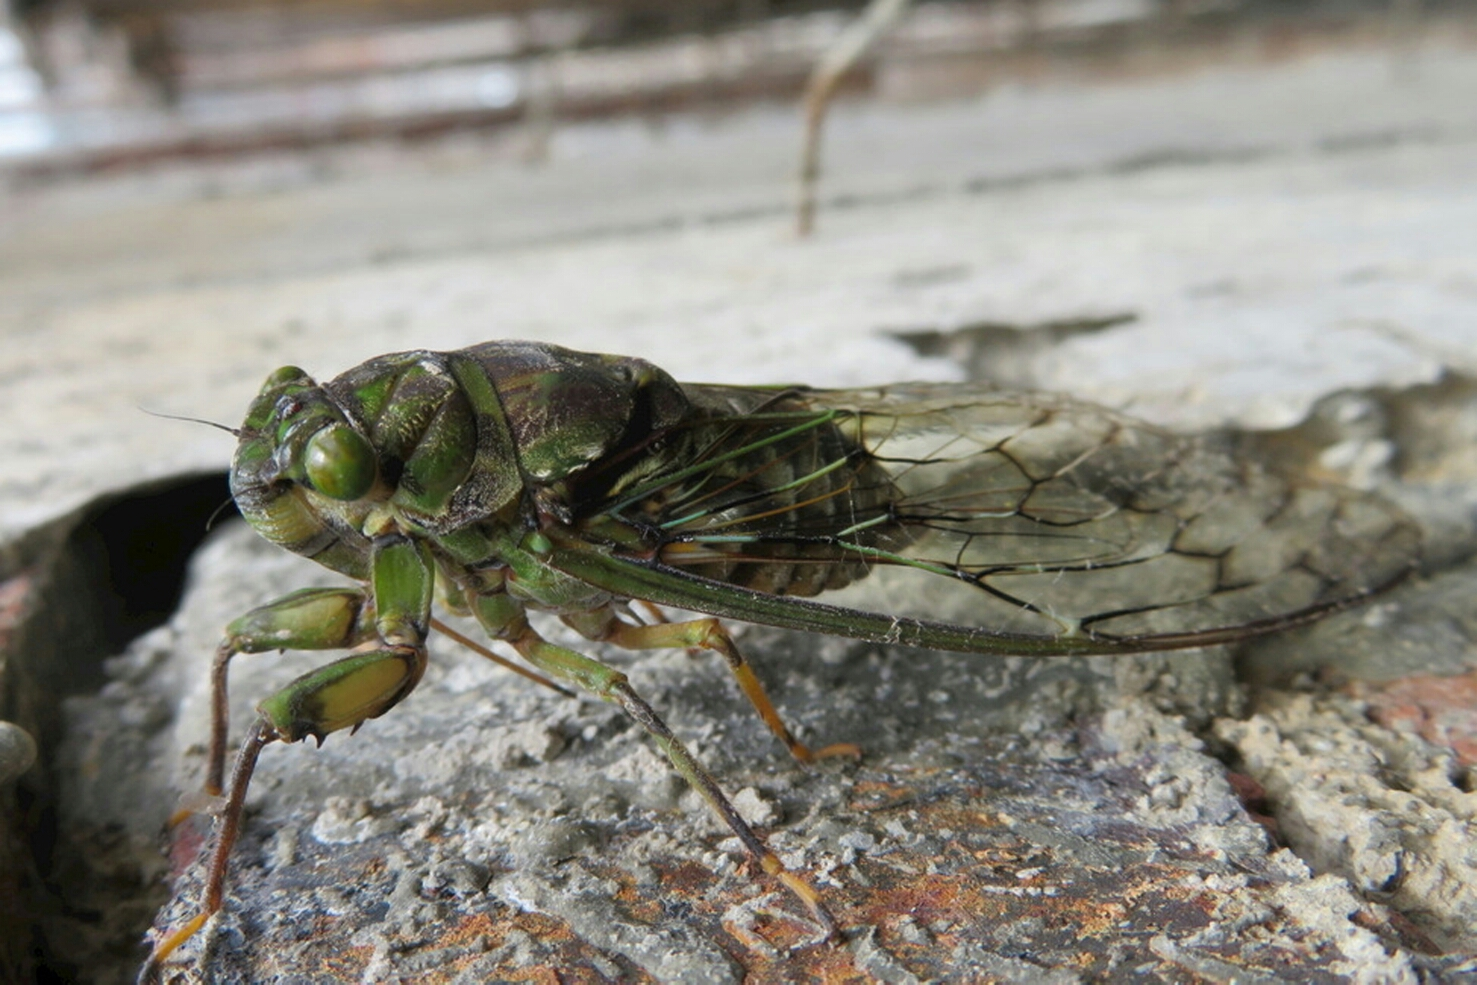chan: (154, 310, 1418, 770)
